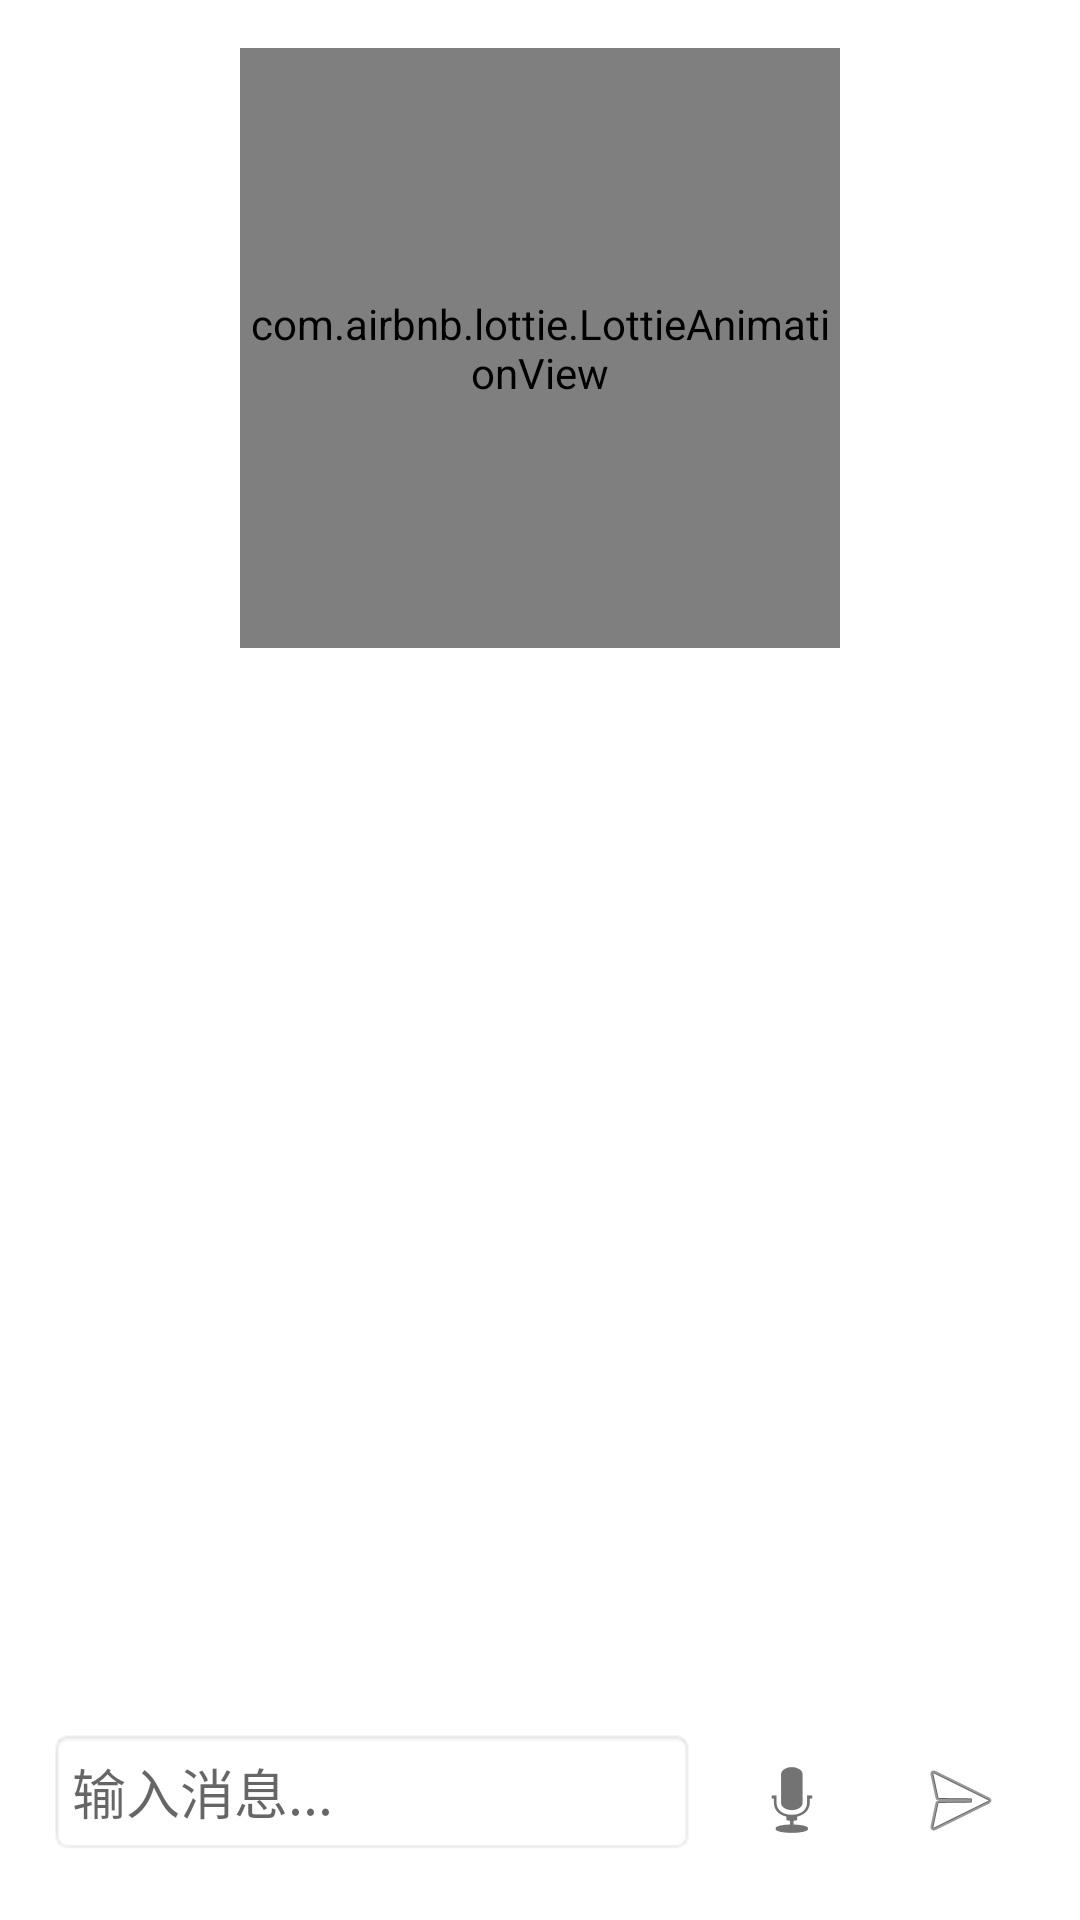

Named icons in this screenshot (1080 × 1920) and their centers, (x=x, y=y):
send: (x=961, y=1800)
speak now: (x=792, y=1800)
